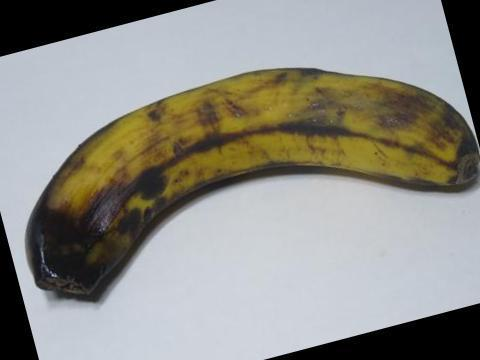overripe: (13, 51, 479, 309)
rotten: (18, 174, 137, 330)
